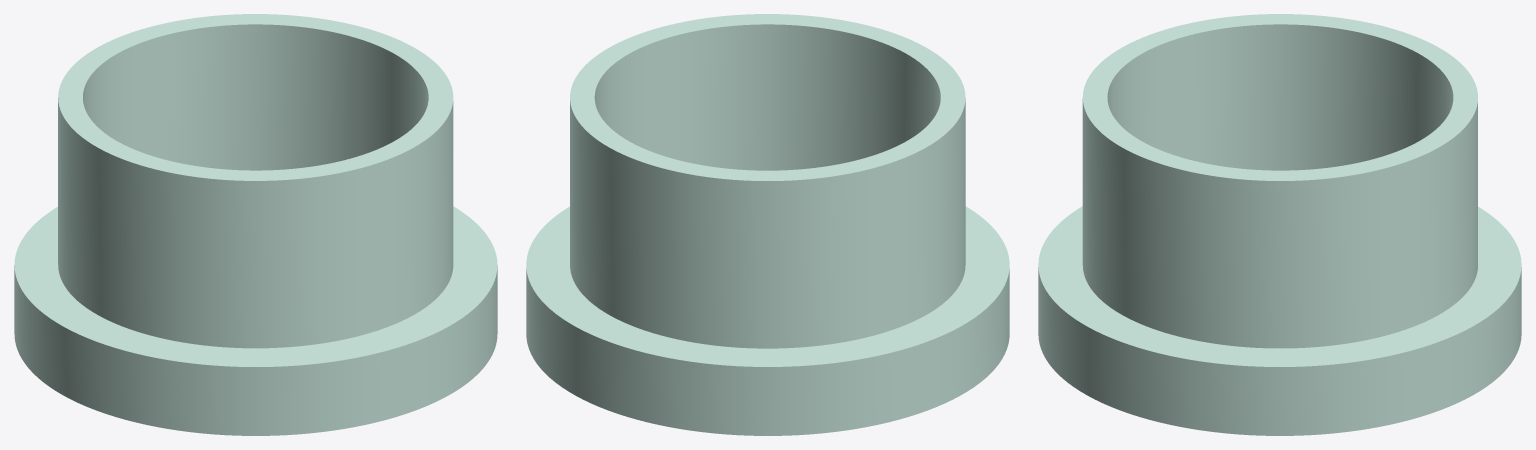
The picture shows the model from 3 angles, left to right: view 1: azimuth 30°, elevation 25°; view 2: azimuth 150°, elevation 25°; view 3: azimuth 270°, elevation 25°; orthographic projection.
Visible parts, largest first — view 1: Renderer Node; view 2: Renderer Node; view 3: Renderer Node.
Part boxes in pixels (x1=…): Renderer Node: x1=14, y1=14, x2=497, y2=435; Renderer Node: x1=526, y1=14, x2=1009, y2=435; Renderer Node: x1=1038, y1=14, x2=1521, y2=435.
Bounding box in the file's own units: 1.39 × 0.75 × 1.39.
